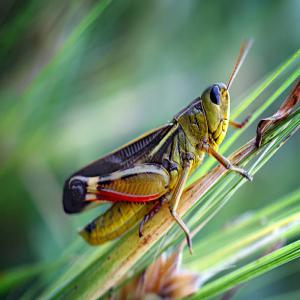locust: (62, 58, 248, 250)
